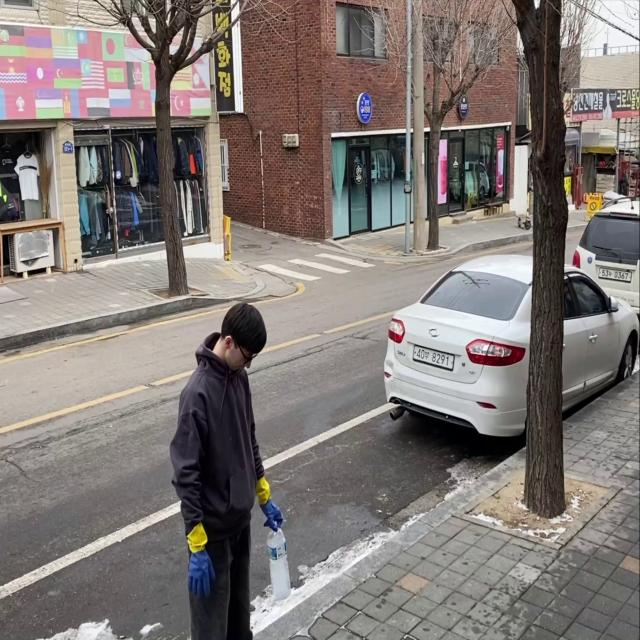gloved_hand: (184, 550, 219, 603), (257, 497, 285, 535)
